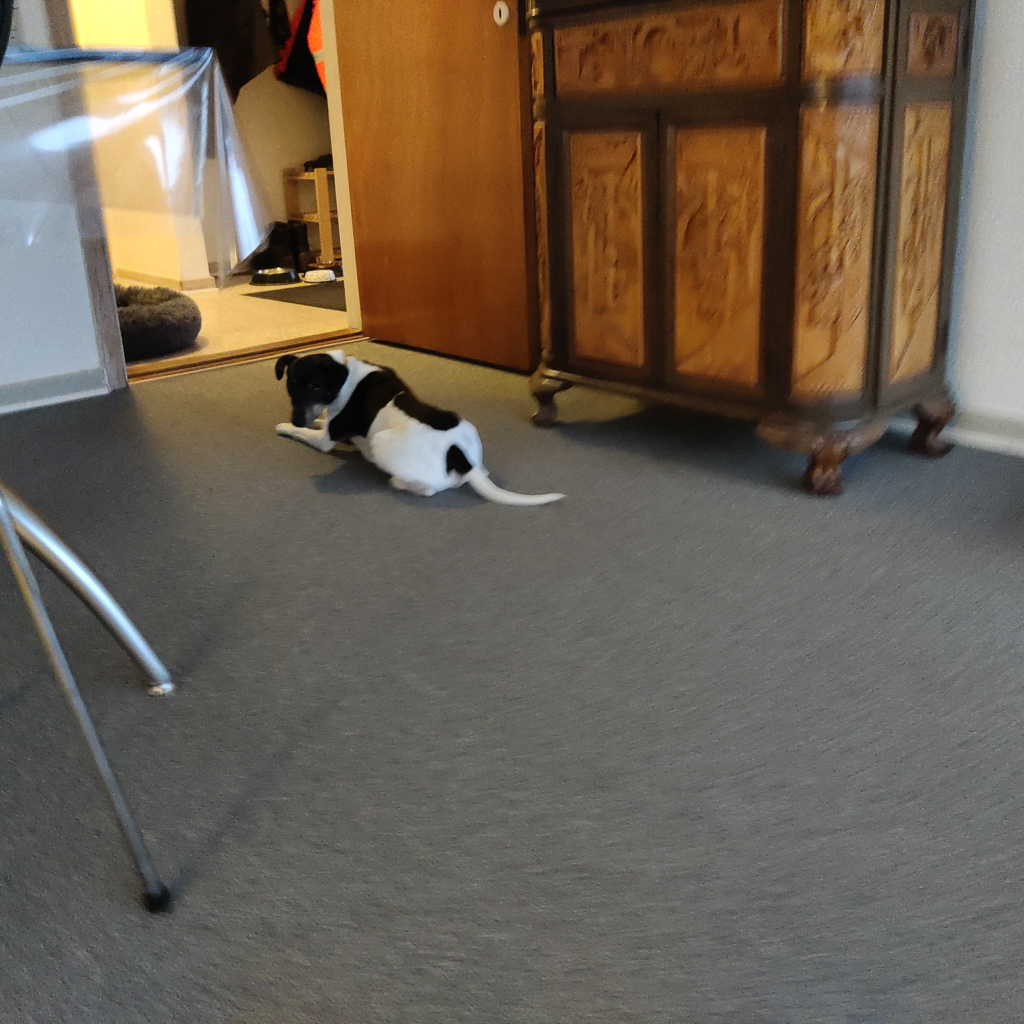Dog: (269, 346, 584, 515)
